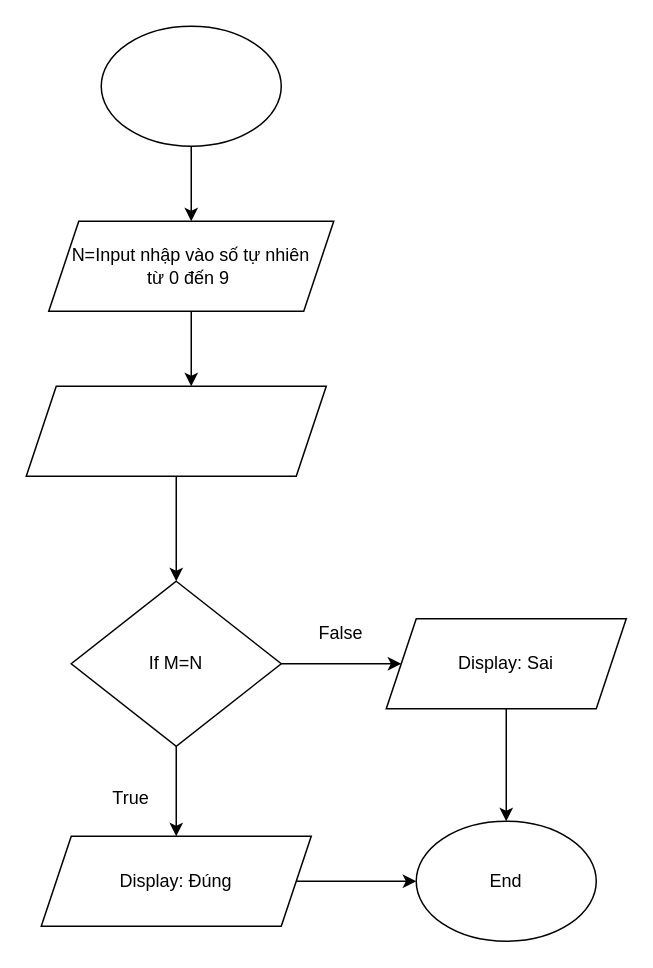
This 653x968 diagram has some shape labels left out. The shapes that lost their labels are listed below. From the top down, each one's box as (x1, y1, x2, y2) in pixels, then its label:
(100, 25, 281, 146): Begin
(25, 385, 326, 476): input M
